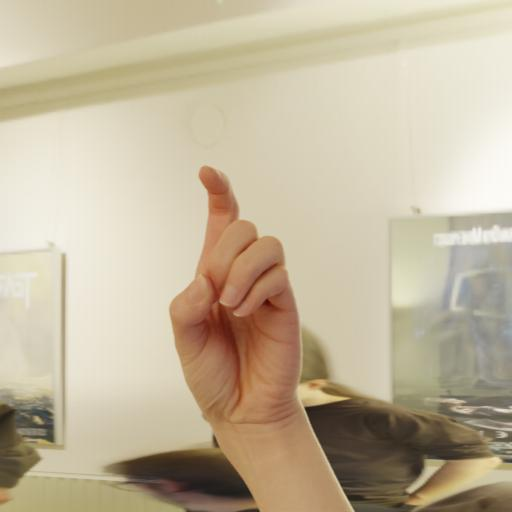X: (168, 160, 314, 435)
